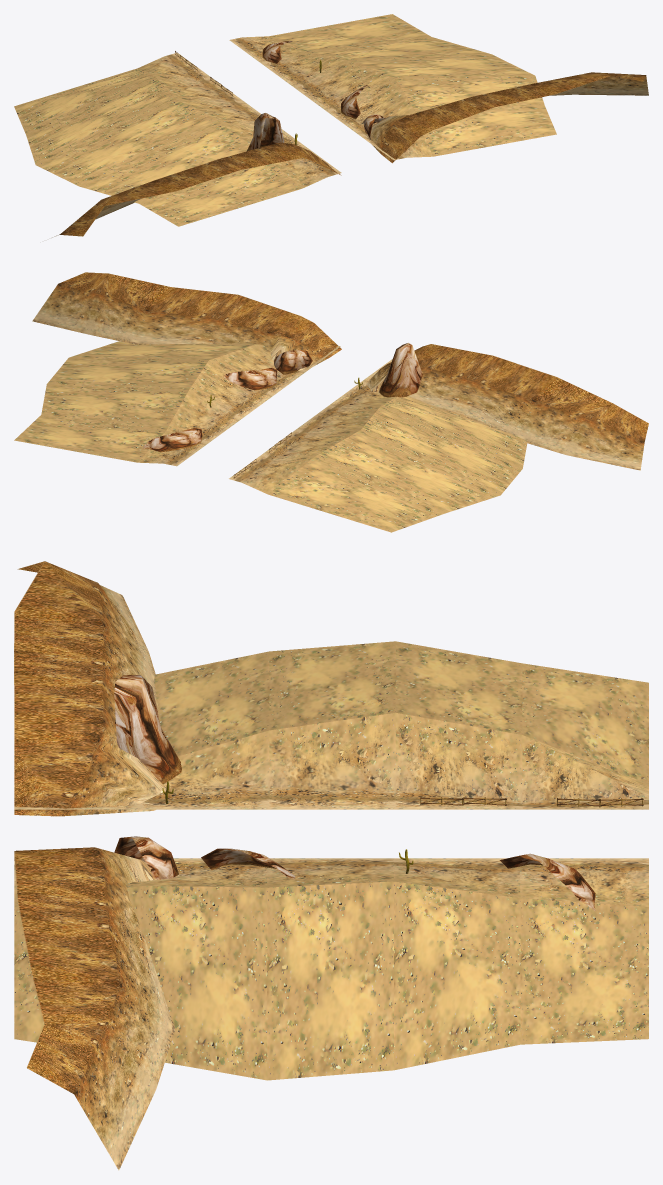
Rendered from us_des_mid_end.fbx.
The picture shows the model from 3 angles, top to bottom: view 1: azimuth 30°, elevation 25°; view 2: azimuth 150°, elevation 25°; view 3: azimuth 270°, elevation 25°; orthographic projection. The views are drawn at different scales.
Parts seen in each view (by area): view 1: des_mid_end; view 2: des_mid_end; view 3: des_mid_end, des_props_end.
Part boxes in pixels (bbox=[...]): des_mid_end: bbox=[14, 14, 648, 237]; des_mid_end: bbox=[14, 272, 648, 532]; des_mid_end: bbox=[14, 561, 648, 1170]; des_props_end: bbox=[162, 781, 643, 873].
Size of the model in its own units: 21445 by 2364 by 10003.
